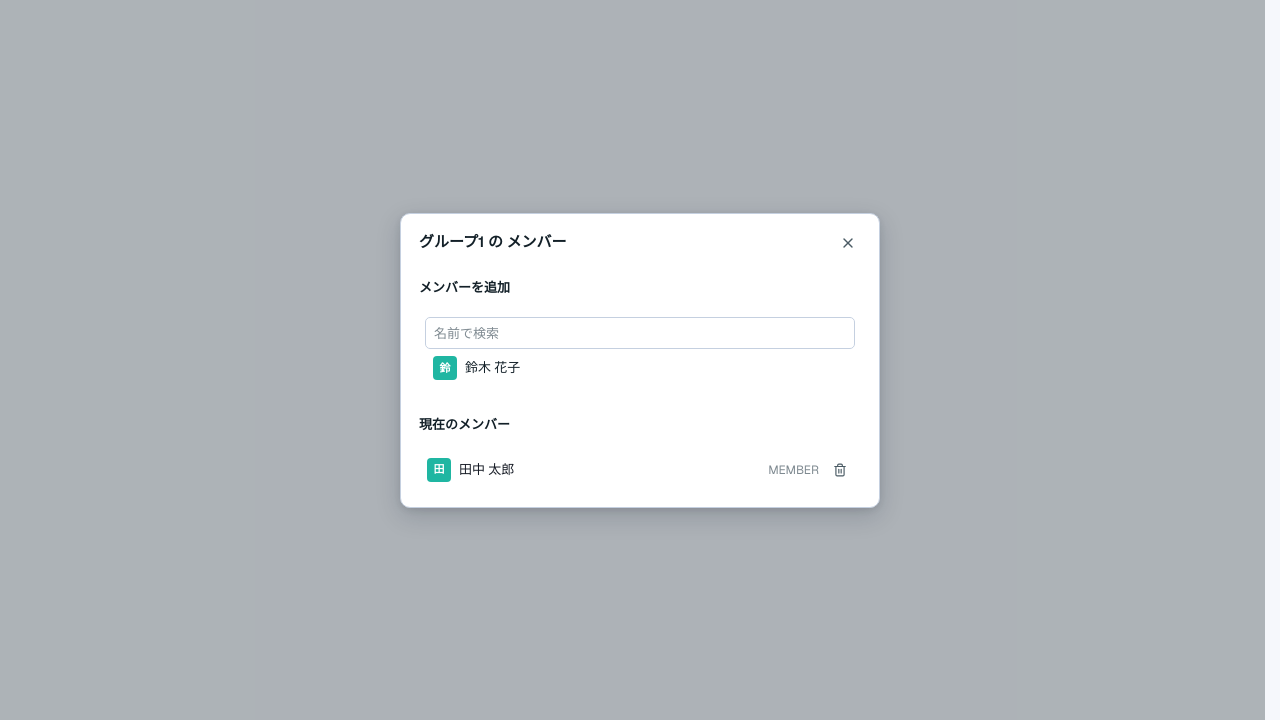
it: DeskMembershipScopeModal（dsk-0309・共通メンバー管理モーダル） › 削除アイコン押下で即削除せず ConfirmDialog を挟むこと（dsk-0329 項目2）
What coordinates should you click on to do the following:
click the button named "田中 太郎 を削除"
I would click on:
 (840, 470)
Its box is 827,456 -> 853,482.
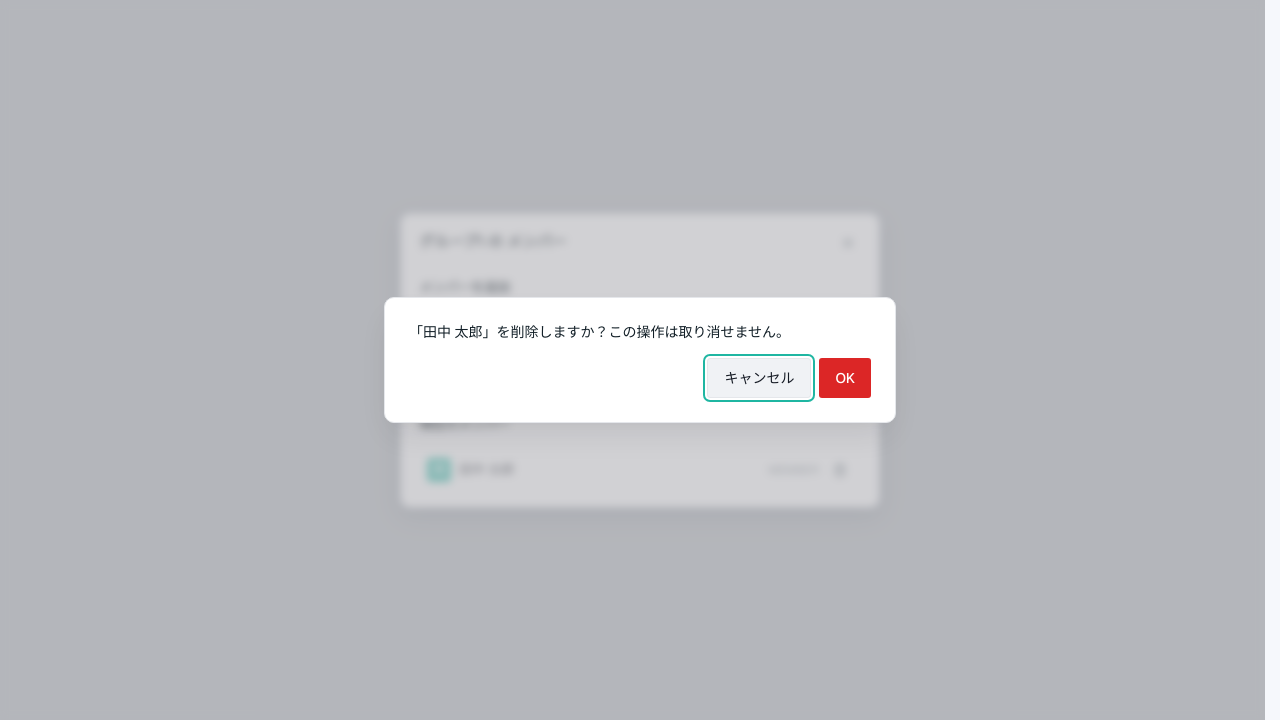
Expected: the dialog is shown, 384,297 -> 896,423
